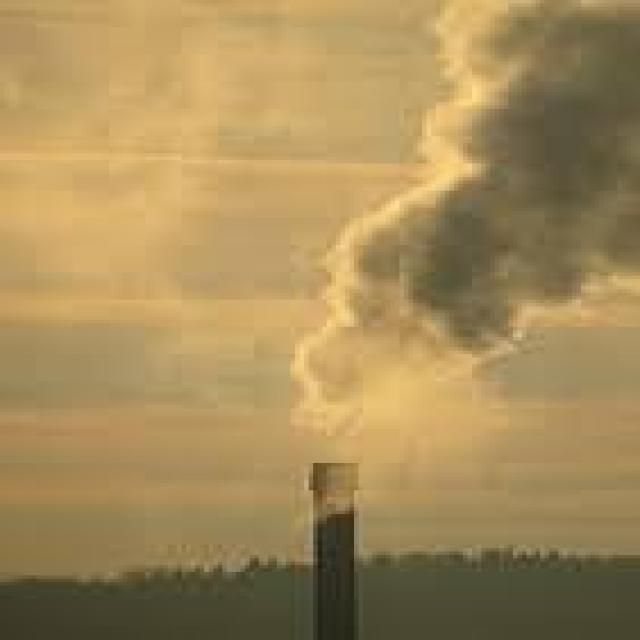Smoke: (286, 0, 640, 436)
